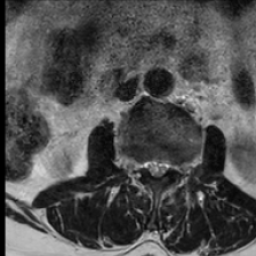CCS_stenosis: (152, 150, 160, 189)
LFS_stenosis: (170, 151, 179, 179)
LLS_stenosis: (160, 150, 170, 183)
RFS_stenosis: (135, 150, 144, 181)
RLS_stenosis: (144, 150, 152, 181)
